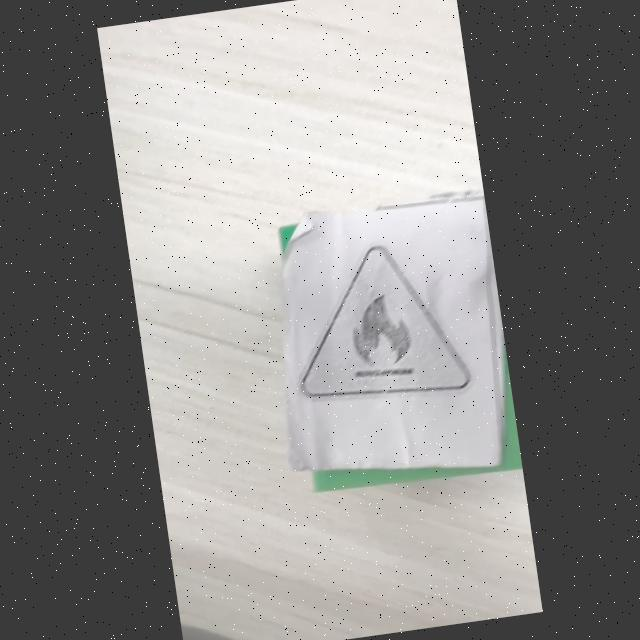Fire: (302, 245, 469, 397)
